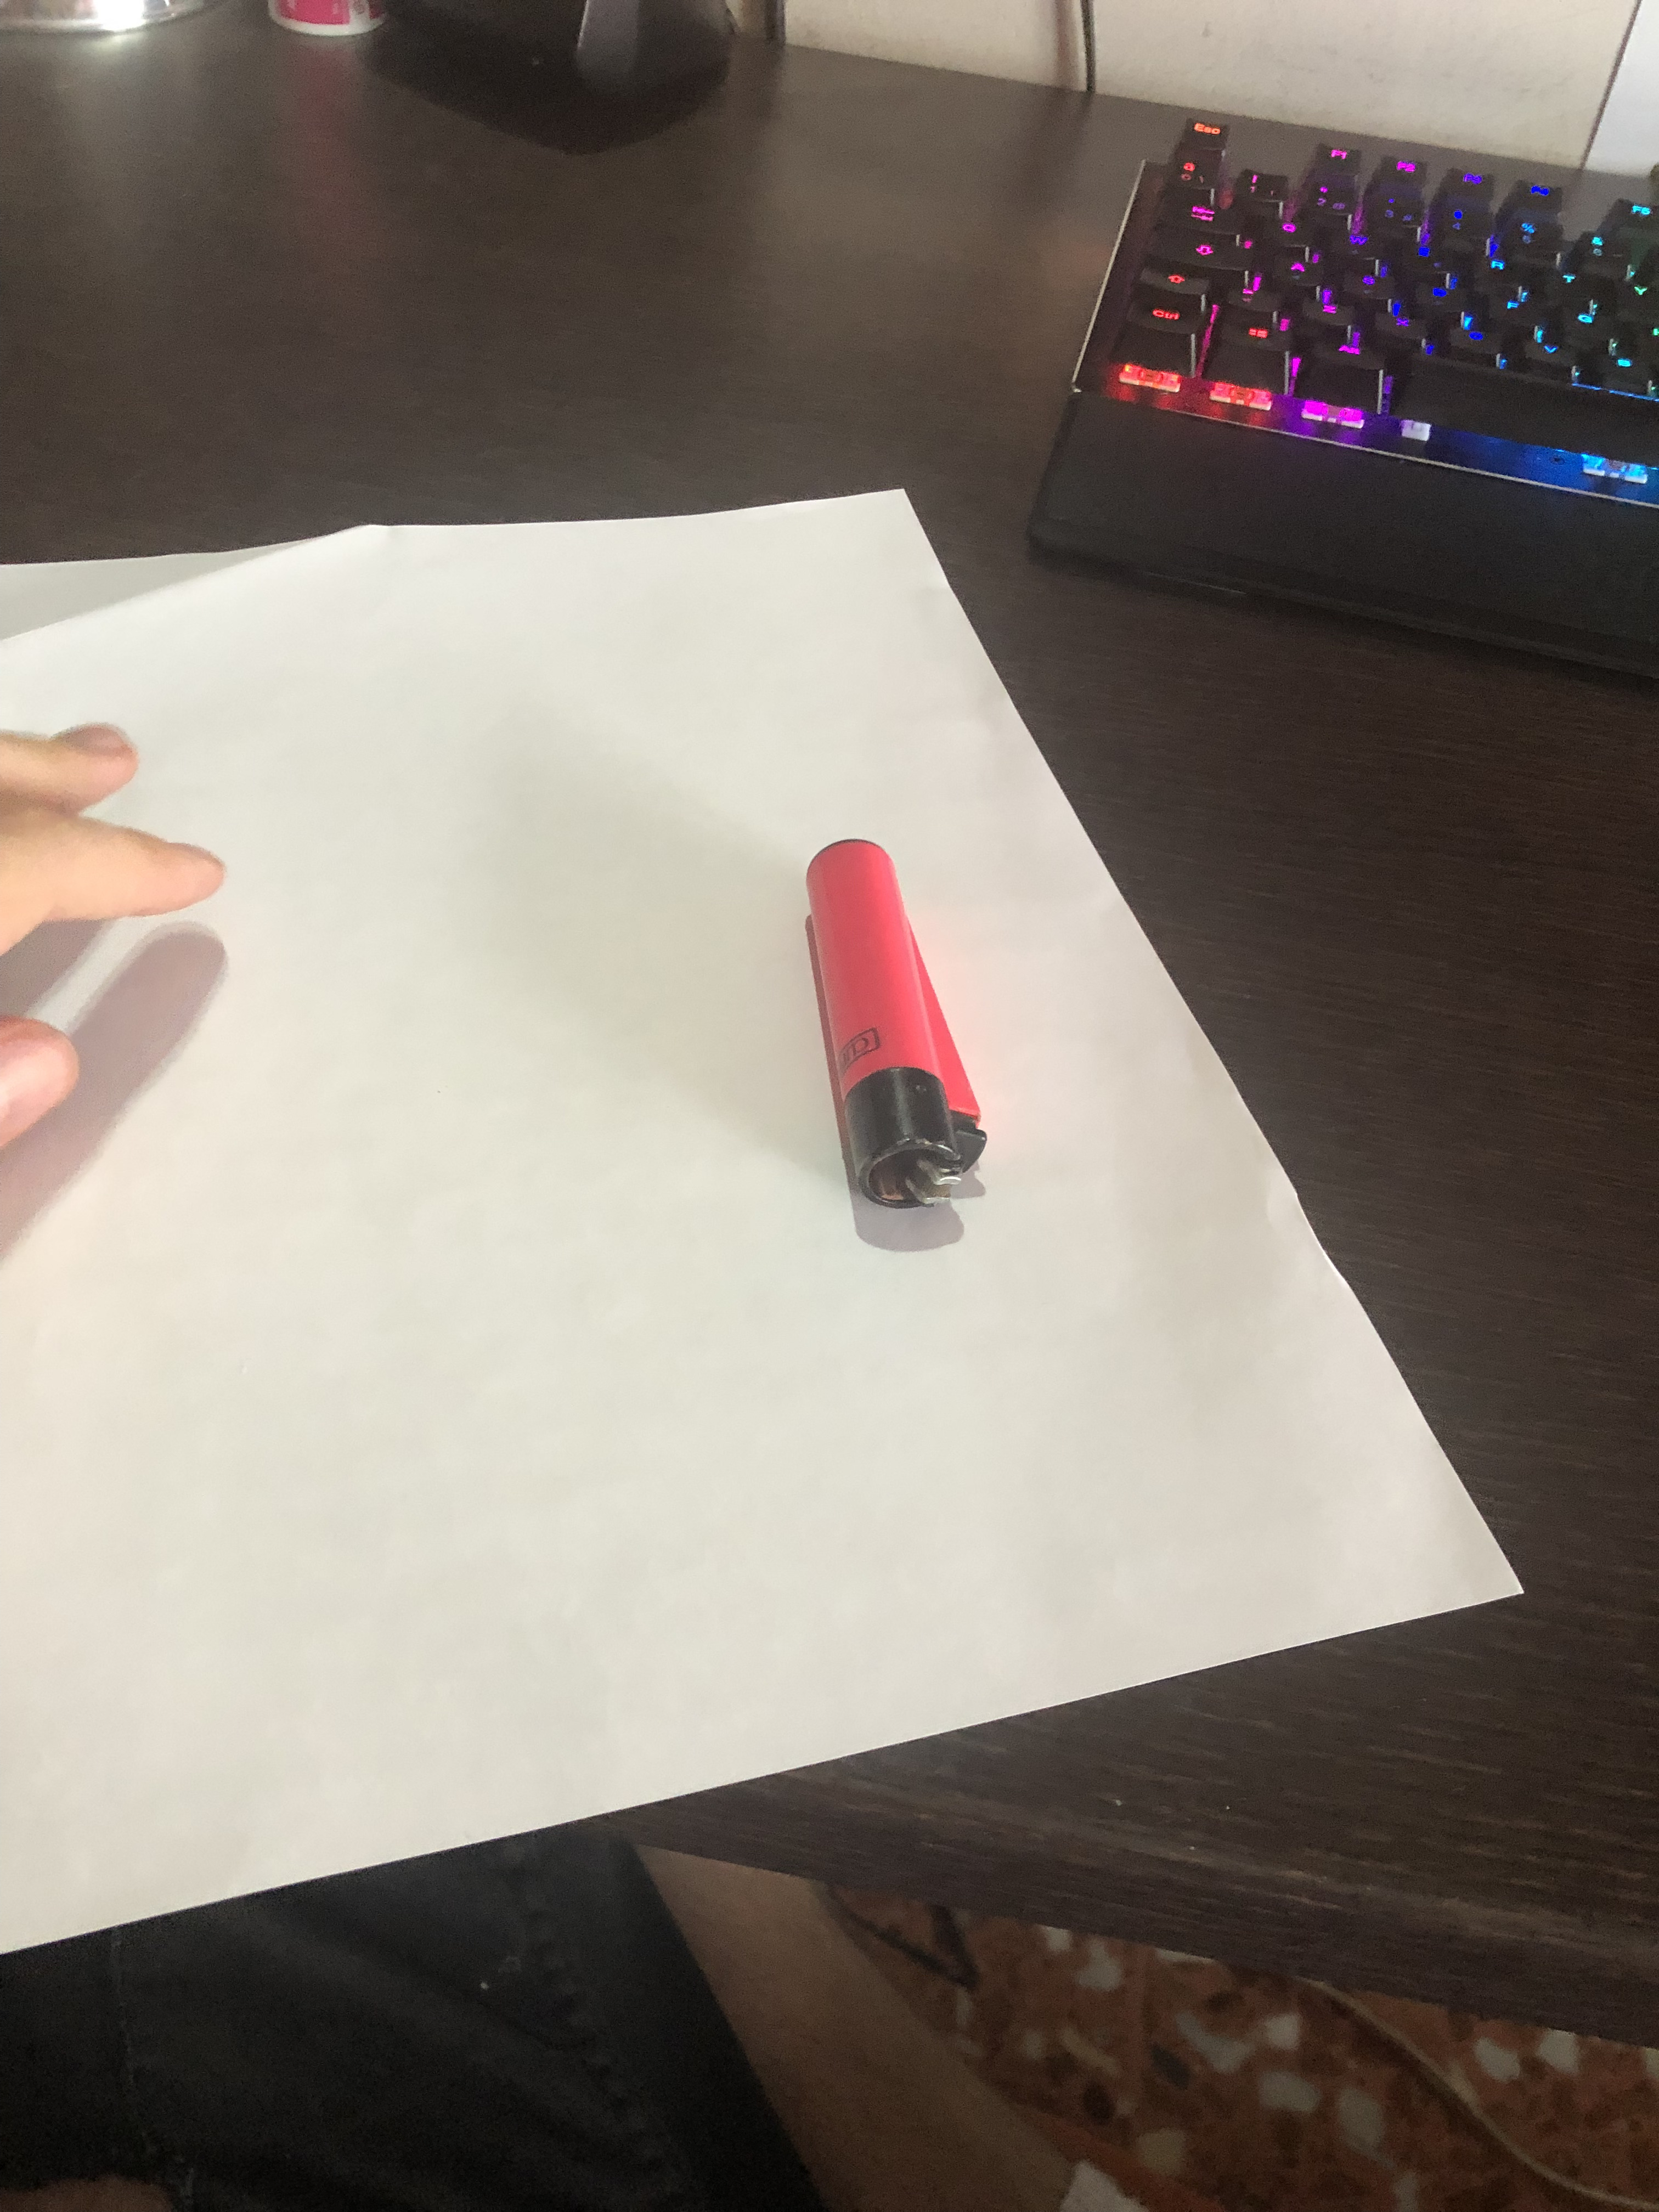Mechero: (798, 833, 1006, 1233)
